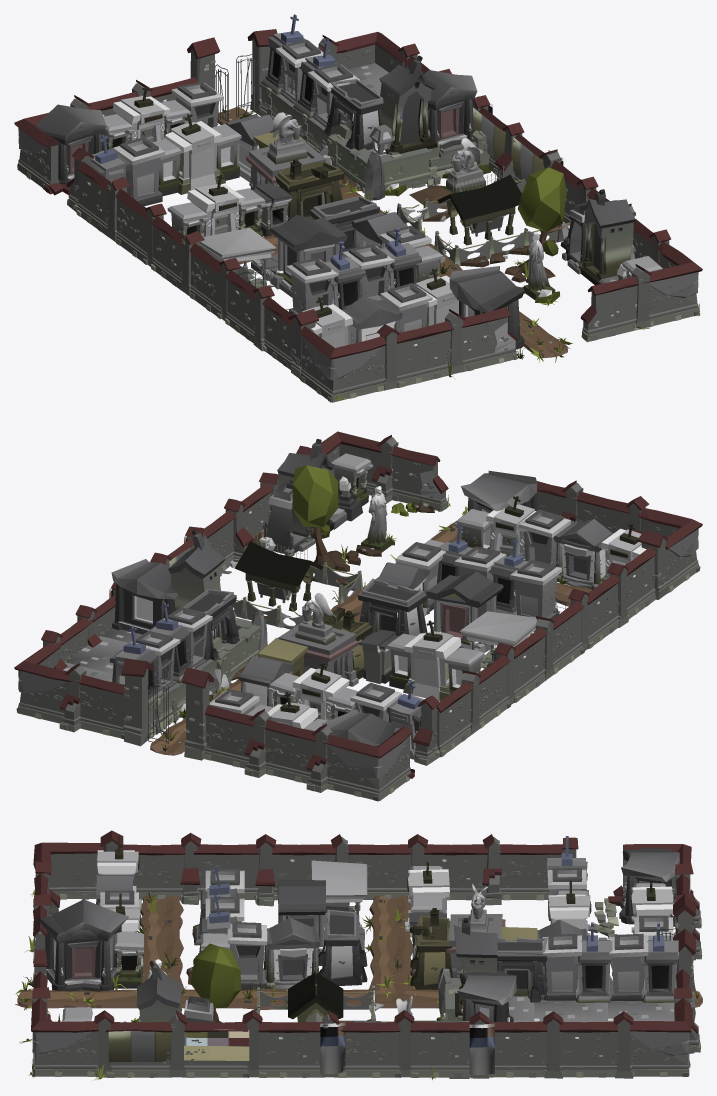
Rendered from NecroPOLY_Chunk_02b.fbx.
The picture shows the model from 3 angles, top to bottom: view 1: azimuth 30°, elevation 25°; view 2: azimuth 150°, elevation 25°; view 3: azimuth 270°, elevation 25°; orthographic projection. The views are drawn at different scales.
Visible parts, largest first — view 1: NecroPOLY_Chunk_02b_LOD0; view 2: NecroPOLY_Chunk_02b_LOD0; view 3: NecroPOLY_Chunk_02b_LOD0.
Boxes of the visible parts, box(x1,y1,x2,y2) form: NecroPOLY_Chunk_02b_LOD0: box(14, 14, 702, 402); NecroPOLY_Chunk_02b_LOD0: box(14, 431, 702, 801); NecroPOLY_Chunk_02b_LOD0: box(15, 830, 702, 1080).
Size of what is drawn, in the model's own units: 60.78 by 19.93 by 93.52.
